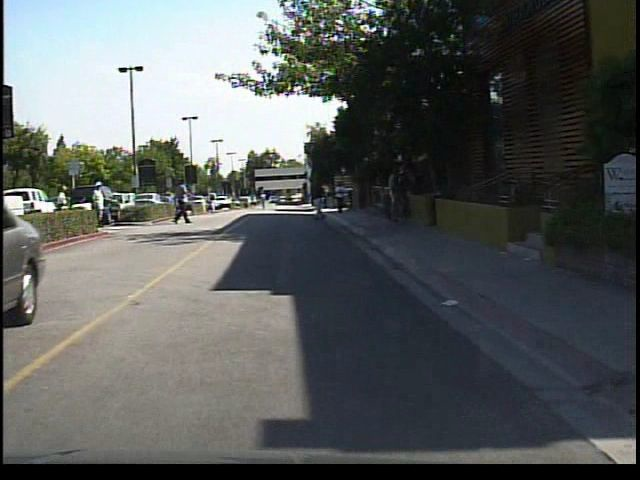person: (384, 157, 410, 229), (308, 167, 334, 222), (171, 173, 196, 230), (89, 176, 112, 227), (55, 180, 76, 233), (401, 167, 421, 221), (333, 176, 350, 216), (206, 186, 222, 215), (256, 188, 272, 211)
